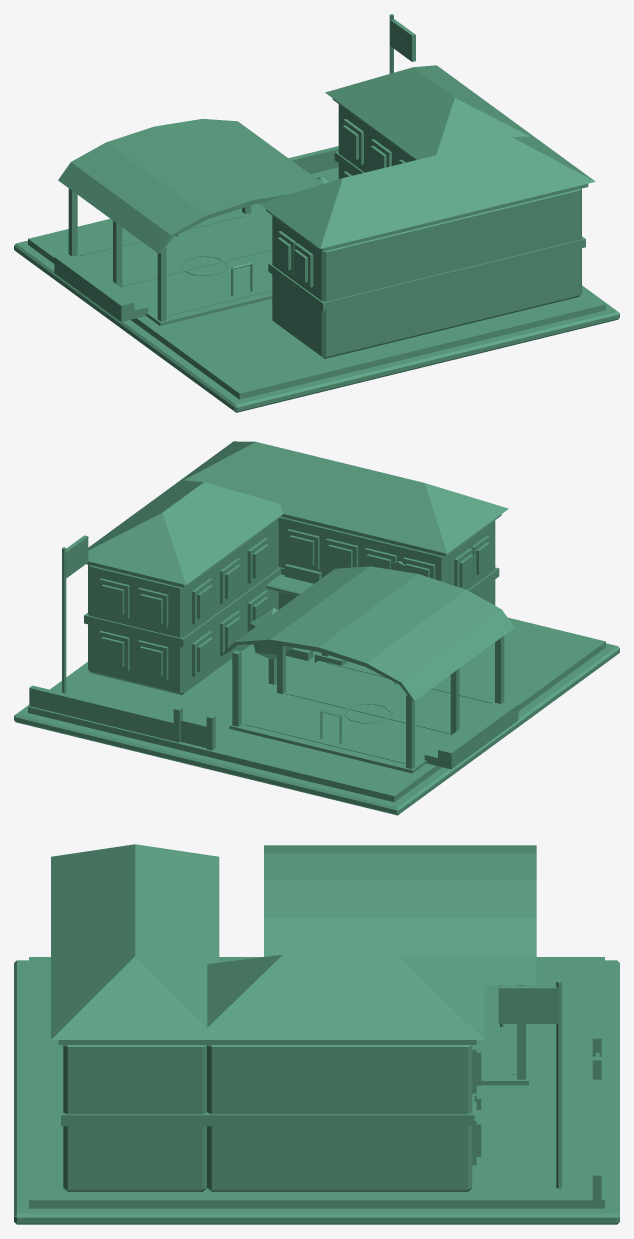
3 renders of one model, top to bottom at view 1: azimuth 30°, elevation 25°; view 2: azimuth 150°, elevation 25°; view 3: azimuth 270°, elevation 25°, orthographic. The views are drawn at different scales.
Parts seen in each view (by area): view 1: corpo; view 2: corpo; view 3: corpo.
Boxes of the visible parts, box(x1,y1,x2,y2) form: corpo: box(14, 14, 619, 412); corpo: box(14, 441, 619, 815); corpo: box(14, 844, 619, 1224).
Bounding box in the file's own units: 4.06 × 1.65 × 4.
